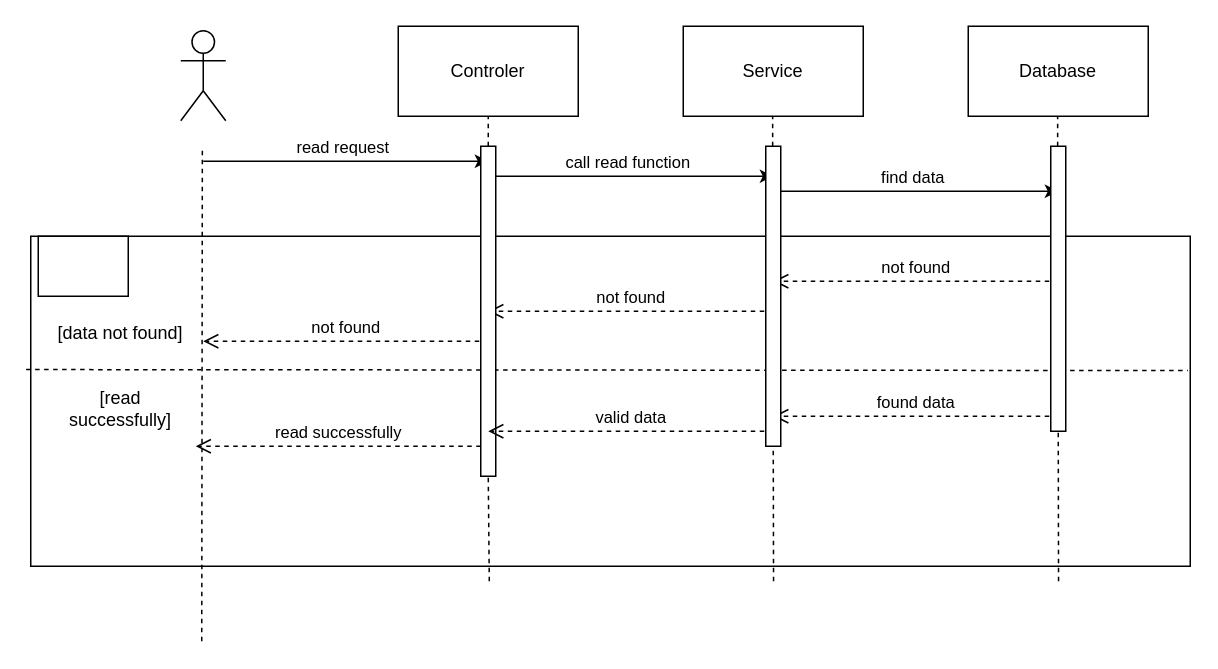
This 1218x669 diagram has some shape labels left out. Each missing label, with the centre of its shape:
Actor: point 202,75
Alternative: point 82,265
